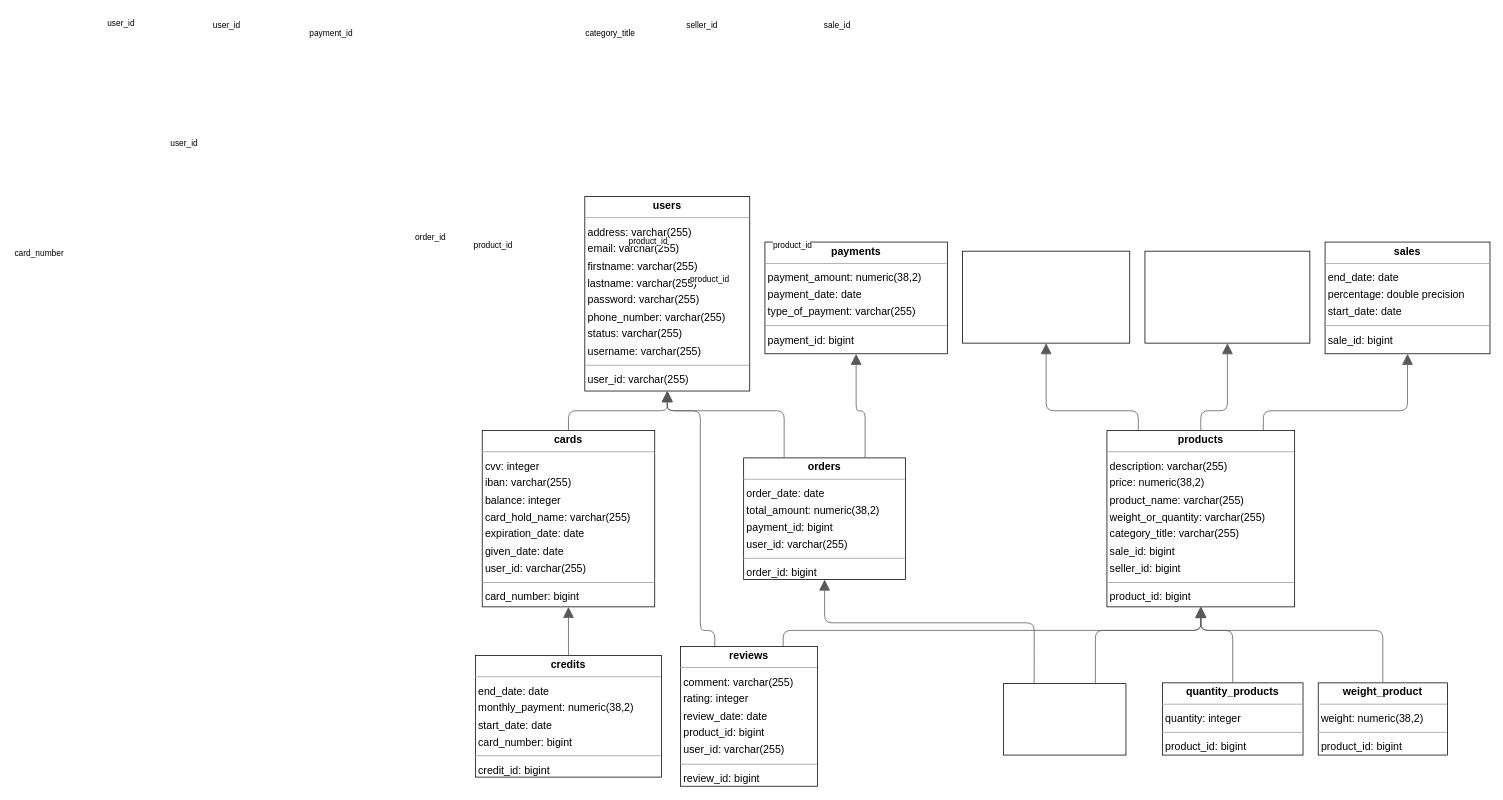
This 1503x800 diagram has some shape labels left out. The centre of each missing label's shape, as x and y in pixels:
"categories category_name: varchar(255) code: bigint category_title: varchar(255)" goes at point (1046, 296).
"order_products order_id: bigint product_id: bigint" goes at point (1064, 719).
"sellers phone_number: varchar(255) seller_name: varchar(255) seller_id: bigint" goes at point (1227, 296).
